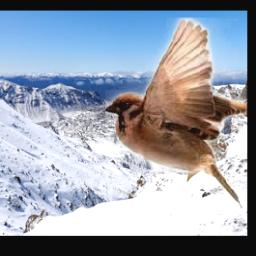Sparrow: (105, 18, 246, 209)
